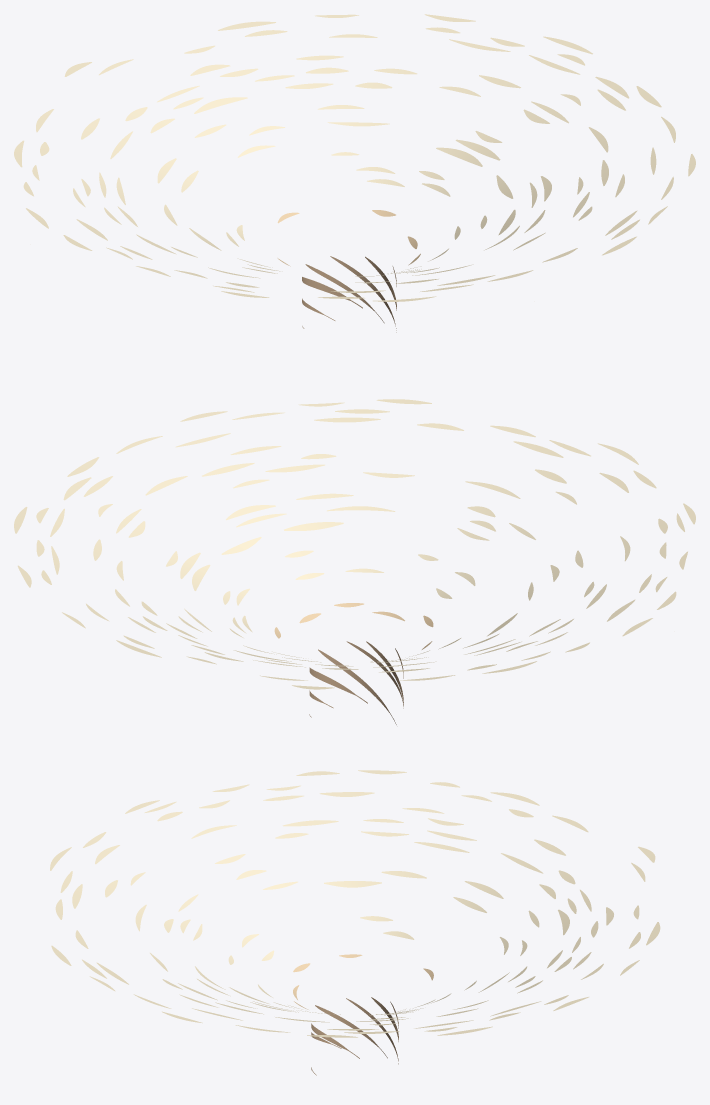
The model's file is SandSwirl.glb.
3 renders of one model, top to bottom at view 1: azimuth 30°, elevation 25°; view 2: azimuth 150°, elevation 25°; view 3: azimuth 270°, elevation 25°, orthographic. The views are drawn at different scales.
Parts seen in each view (by area): view 1: Swirl5, Swirl4, Swirl3, Whirl, Swirl2; view 2: Swirl5, Swirl4, Swirl3, Whirl, Swirl2; view 3: Swirl5, Swirl4, Swirl3, Whirl, Swirl2.
Boxes of the visible parts, x1,y1,x2,y2 form: Swirl5: (14, 14, 695, 301); Swirl4: (73, 55, 624, 283); Swirl3: (157, 105, 551, 276); Whirl: (302, 256, 396, 332); Swirl2: (226, 152, 487, 269); Swirl5: (14, 399, 695, 689); Swirl4: (93, 446, 630, 672); Swirl3: (166, 493, 559, 662); Whirl: (309, 641, 403, 724); Swirl2: (223, 550, 475, 656); Swirl5: (50, 770, 660, 1037); Swirl4: (105, 808, 613, 1025); Swirl3: (164, 870, 539, 1015); Whirl: (311, 997, 398, 1075); Swirl2: (228, 916, 476, 1011).
Bounding box in the file's own units: 69.04 × 20.07 × 69.04.
